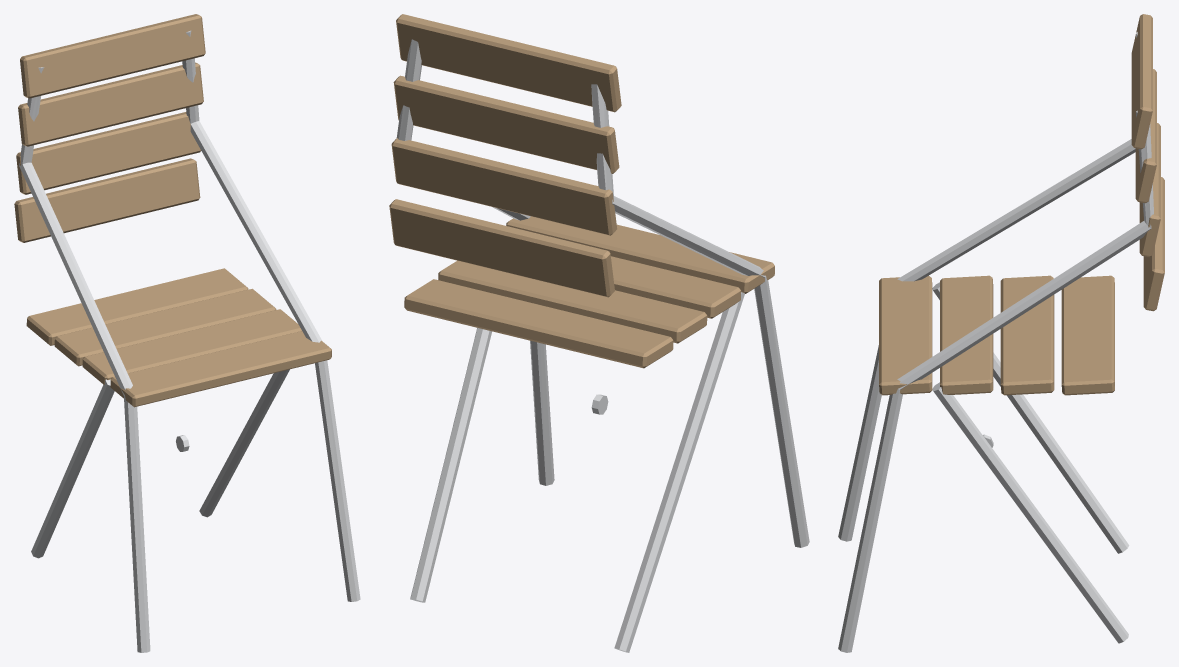
File: bakery-and-cafe-folding-chair-outdoor-ccea75a1__22215.glb
3 renders of one model, left to right at view 1: azimuth 30°, elevation 25°; view 2: azimuth 150°, elevation 25°; view 3: azimuth 270°, elevation 25°, orthographic. The views are drawn at different scales.
Visible parts, largest first — view 1: folding-chair-outdoor; view 2: folding-chair-outdoor; view 3: folding-chair-outdoor.
Part boxes in pixels (x1,y1,x2,y2): folding-chair-outdoor: [14, 14, 360, 652]; folding-chair-outdoor: [389, 14, 809, 652]; folding-chair-outdoor: [838, 14, 1164, 652].
Bounding box in the file's own units: 0.4214 × 0.8957 × 0.4937.
